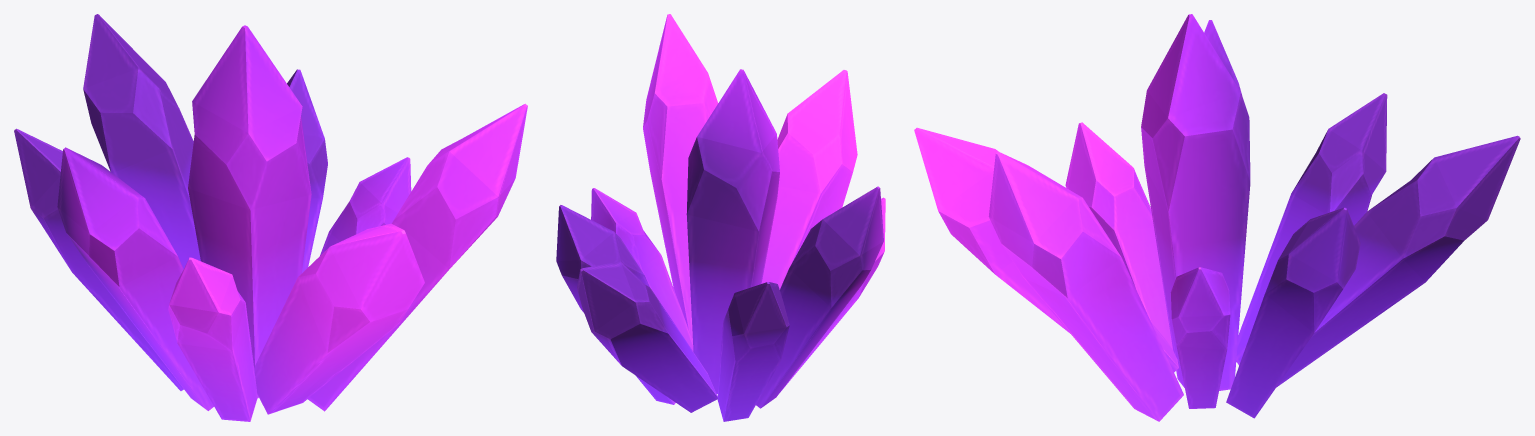
The model's file is SM_Stylized_Crystal_03_CrystalC.fbx.
3 renders of one model, left to right at view 1: azimuth 30°, elevation 25°; view 2: azimuth 150°, elevation 25°; view 3: azimuth 270°, elevation 25°, orthographic. The views are drawn at different scales.
Visible parts, largest first — view 1: SM_Stylized_Crystal_03_CrystalC_LOD0; view 2: SM_Stylized_Crystal_03_CrystalC_LOD0; view 3: SM_Stylized_Crystal_03_CrystalC_LOD0.
Boxes of the visible parts, x1,y1,x2,y2 form: SM_Stylized_Crystal_03_CrystalC_LOD0: (14, 14, 527, 421); SM_Stylized_Crystal_03_CrystalC_LOD0: (556, 14, 885, 421); SM_Stylized_Crystal_03_CrystalC_LOD0: (914, 14, 1520, 421).
Bounding box in the file's own units: 20.13 × 29.74 × 20.12.
